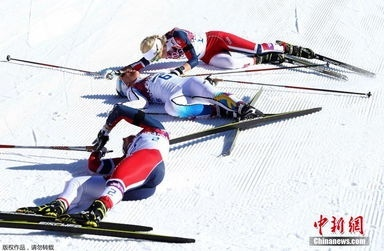falling: (104, 59, 280, 137)
